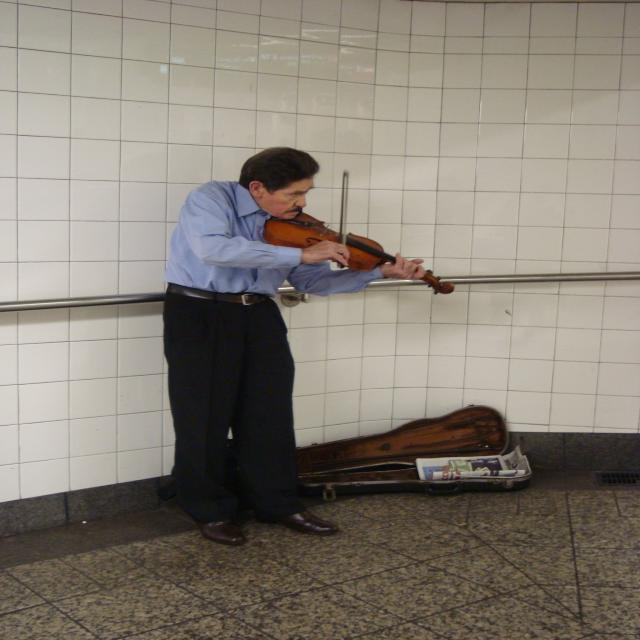violin: (259, 211, 456, 298)
